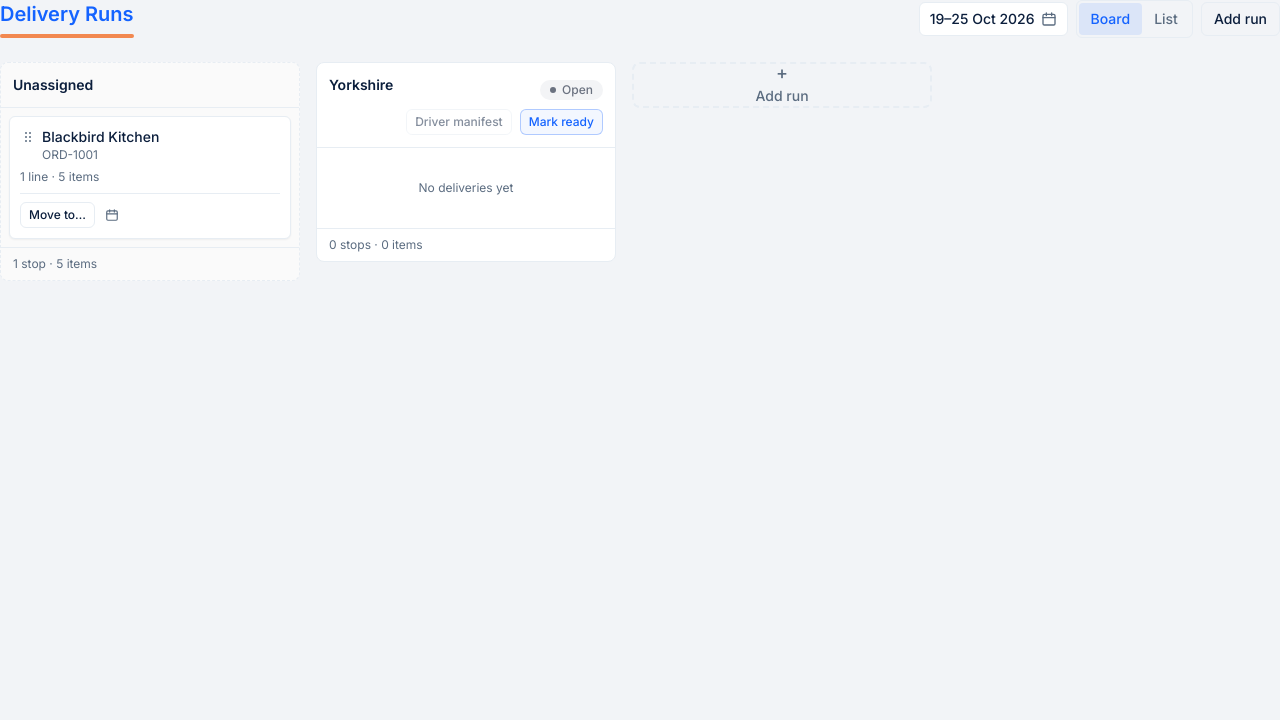
Test: DeliveryRunsPage — change delivery date flow › on any other error, shows a generic banner and does not refetch
Click the button named "Change delivery date" at x=112, y=215, box [101, 204, 123, 226]
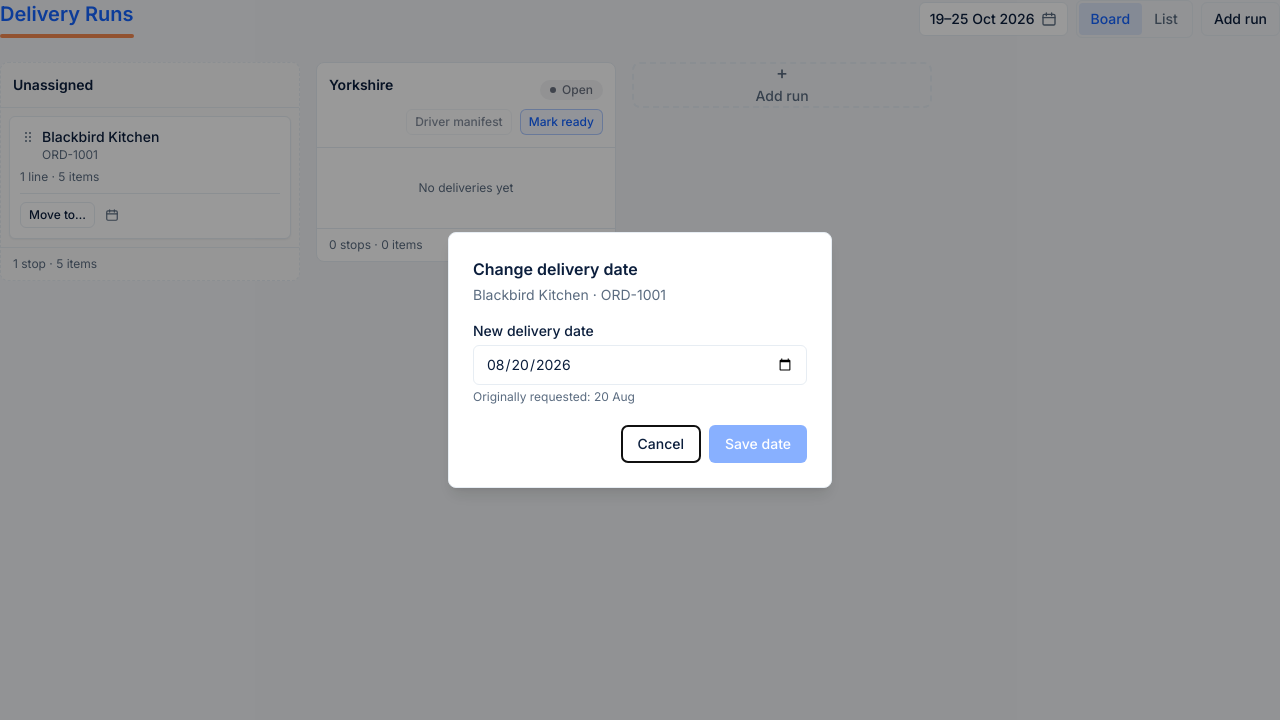
Clear the date field labelled "New delivery date" at x=640, y=365, box [473, 345, 807, 385]
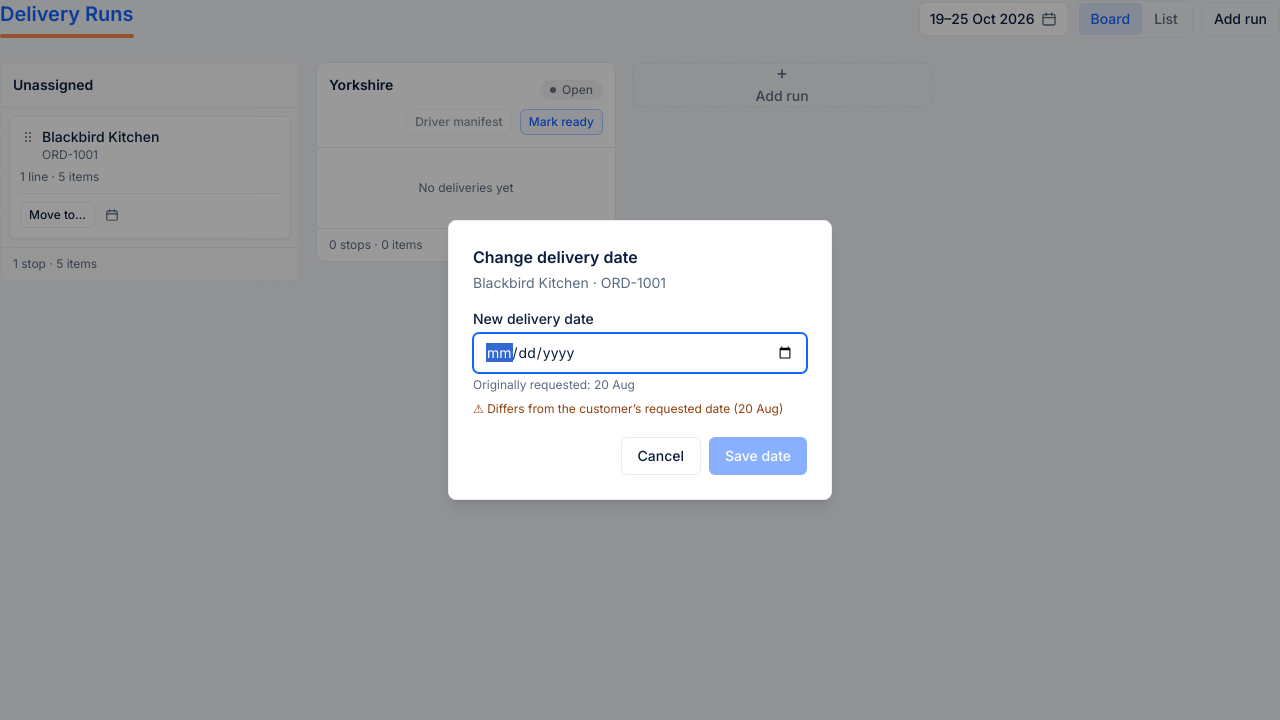
Type "2026-08-25" into the date field labelled "New delivery date" at x=640, y=353, box [473, 333, 807, 373]
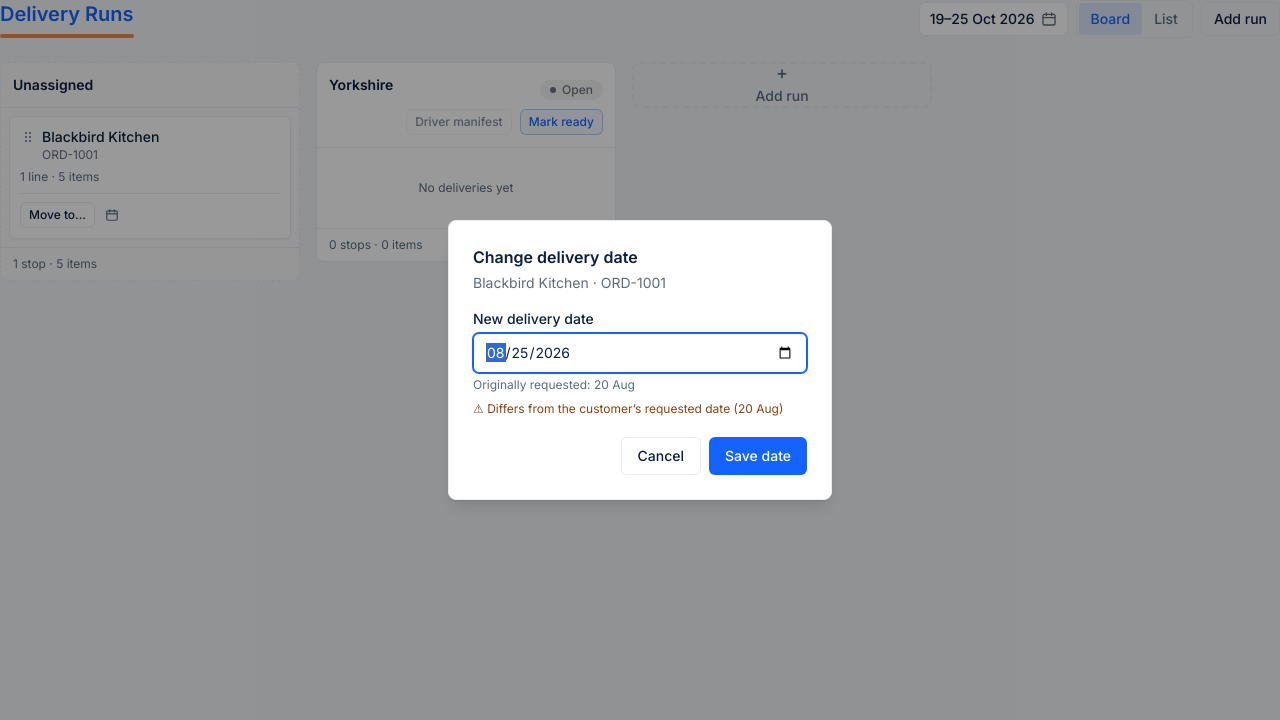
Expected: the button "Save date" is enabled
Click the button "Save date" at x=758, y=456, box [709, 437, 807, 475]
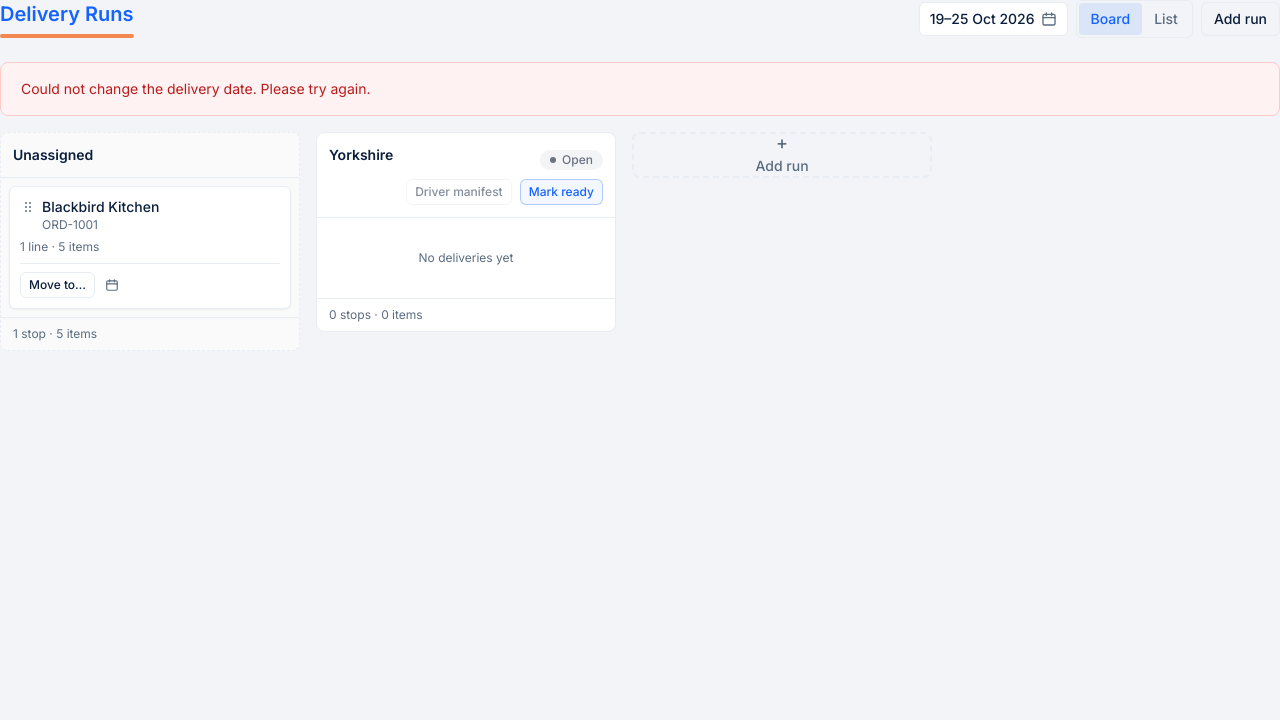
Expected: the text "Could not change the delivery date. Please try again." is shown, [0, 62, 1279, 116]
